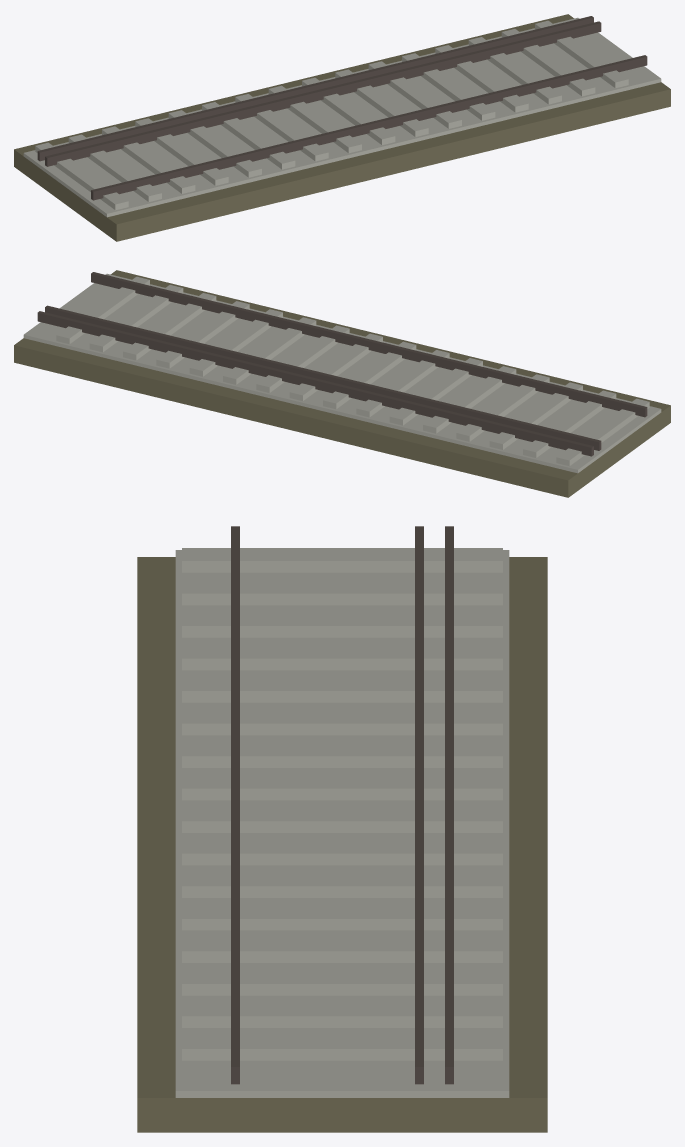
File: SM_KitVia_v2_LOD0.fbx
3 views of the same model, one above another, from view 1: azimuth 30°, elevation 25°; view 2: azimuth 150°, elevation 25°; view 3: azimuth 270°, elevation 25° (orthographic). The views are drawn at different scales.
Visible parts, largest first — view 1: SM_kit_via_v2_LOD0; view 2: SM_kit_via_v2_LOD0; view 3: SM_kit_via_v2_LOD0.
Boxes of the visible parts, bbox=[...] form: SM_kit_via_v2_LOD0: bbox=[14, 14, 670, 241]; SM_kit_via_v2_LOD0: bbox=[14, 270, 670, 497]; SM_kit_via_v2_LOD0: bbox=[137, 526, 547, 1132].
Size of the model in its own units: 9.98 by 0.565 by 3.2.
